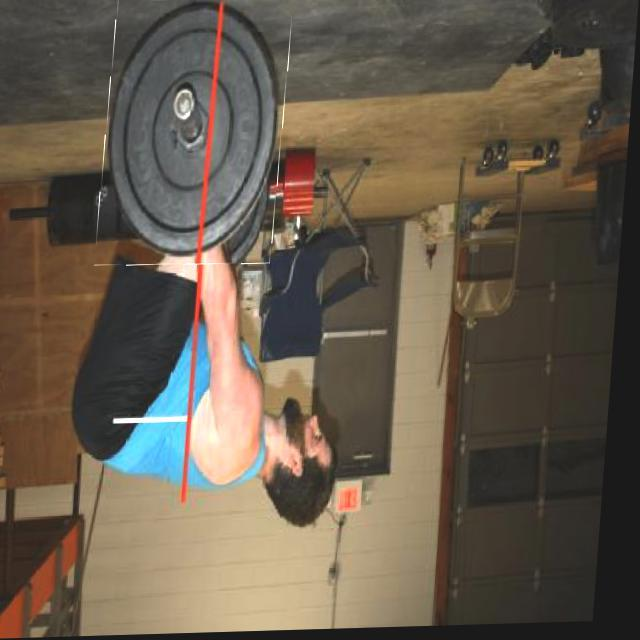barbell: (100, 1, 294, 269)
